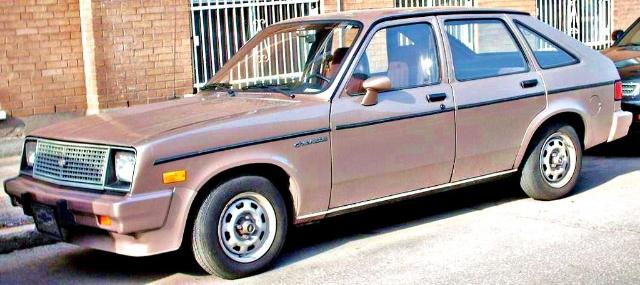chevette-1983: (5, 7, 636, 278)
